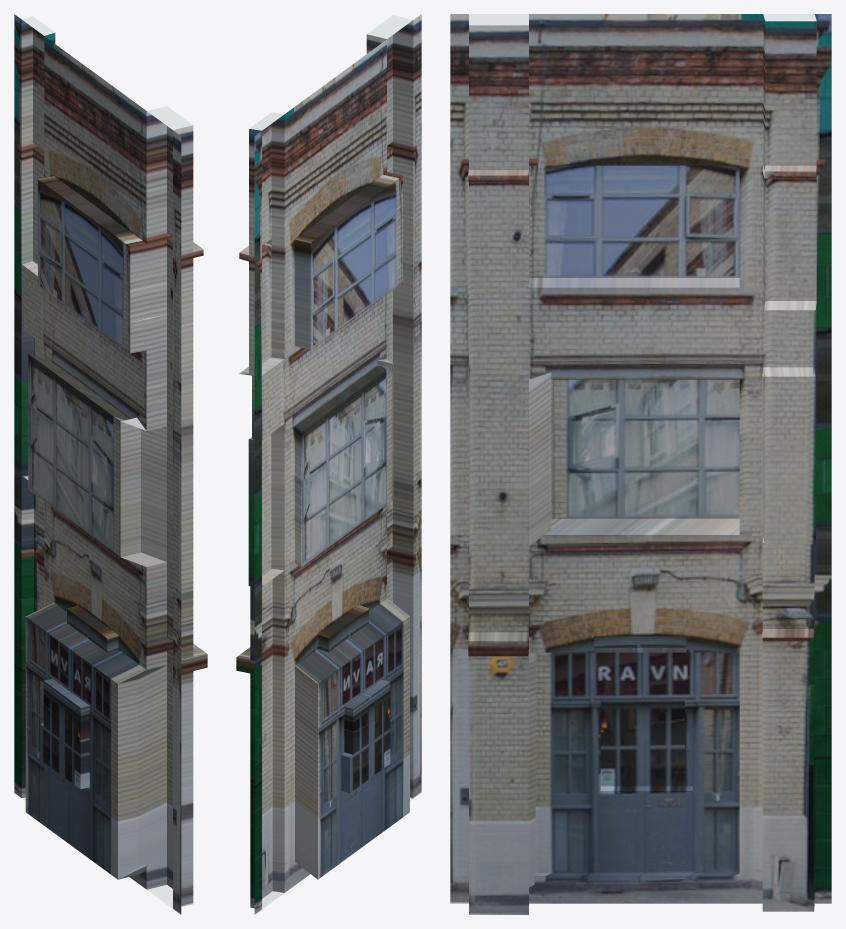
File: hfleft.fbx
The picture shows the model from 3 angles, left to right: view 1: azimuth 30°, elevation 25°; view 2: azimuth 150°, elevation 25°; view 3: azimuth 270°, elevation 25°; orthographic projection. The views are drawn at different scales.
Visible parts, largest first — view 1: hfleft; view 2: hfleft; view 3: hfleft.
Boxes of the visible parts, bbox=[...] form: hfleft: bbox=[14, 14, 207, 914]; hfleft: bbox=[236, 14, 421, 914]; hfleft: bbox=[450, 14, 831, 914].
Bounding box in the file's own units: 37.56 × 405 × 157.
Materials: 1 (1 with a texture image).
